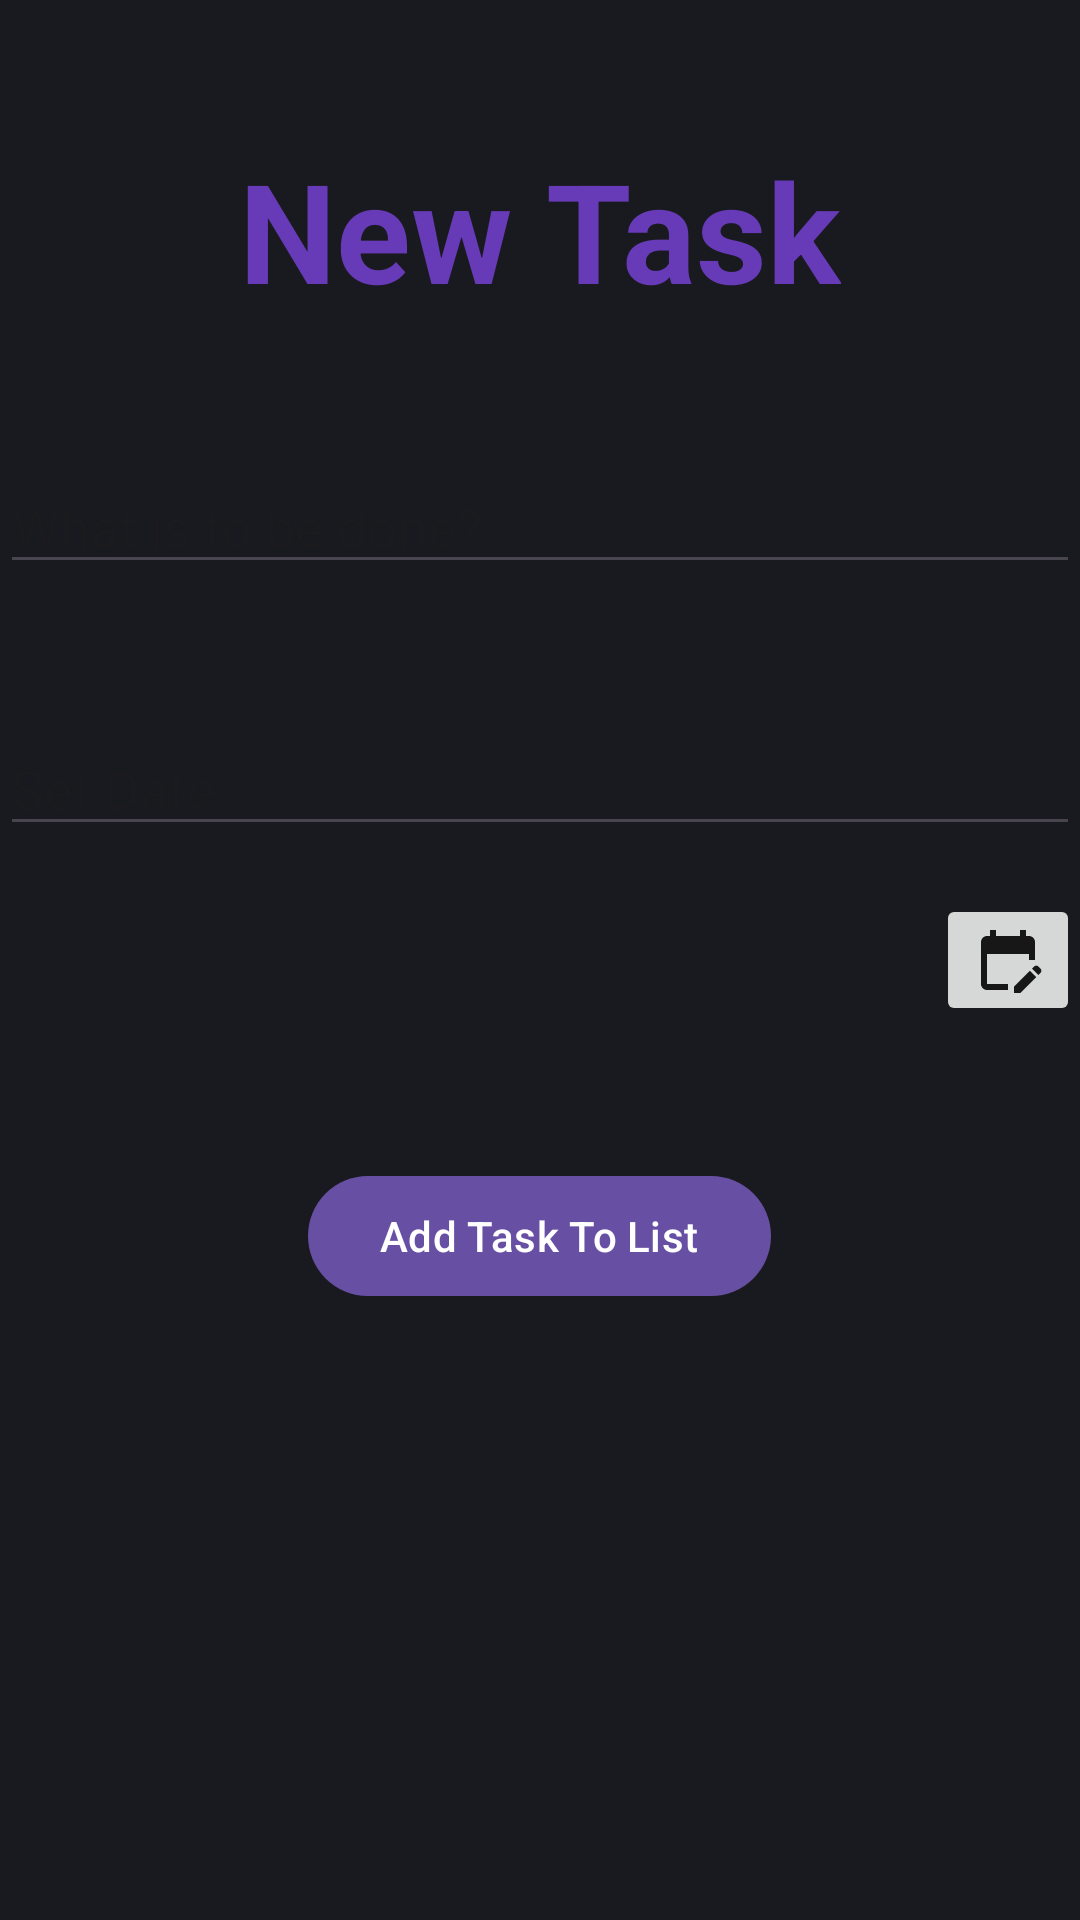

Named icons in this screenshot (1080 x 1920) and their bounding boxes, BBox(x1, y1, x2, y2):
calendar: BBox(948, 912, 1068, 1008)
